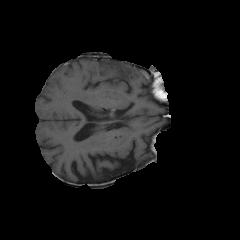glioma: (92, 59, 165, 99)
